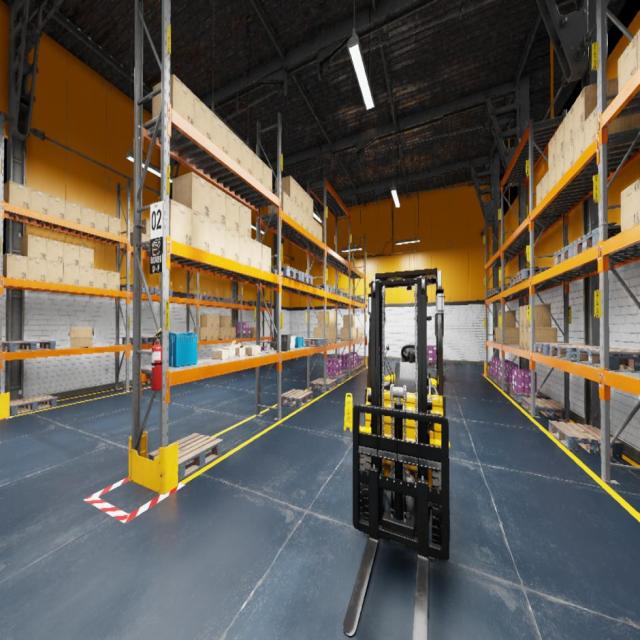box: (584, 101, 640, 150), (573, 77, 618, 136), (152, 74, 194, 125), (150, 200, 192, 247), (172, 172, 210, 219), (617, 33, 638, 93), (621, 178, 640, 232), (194, 95, 211, 142), (3, 180, 30, 209), (192, 210, 210, 252), (20, 234, 46, 260), (523, 304, 551, 328), (528, 328, 557, 350), (210, 184, 225, 226), (3, 253, 27, 279), (210, 218, 225, 258), (275, 176, 297, 203), (212, 112, 226, 154), (268, 191, 290, 217), (226, 194, 240, 232), (227, 126, 240, 166), (69, 327, 94, 347), (225, 226, 239, 261), (30, 187, 48, 214), (28, 258, 46, 282), (46, 239, 64, 263), (49, 194, 66, 219), (63, 242, 80, 266), (564, 104, 573, 149), (574, 124, 584, 164), (65, 199, 81, 224), (46, 261, 64, 283), (241, 140, 252, 175), (240, 203, 251, 238), (564, 138, 574, 174), (240, 233, 251, 265), (63, 264, 79, 286), (500, 327, 520, 344), (556, 119, 564, 160), (81, 205, 95, 228), (80, 246, 94, 268), (548, 132, 556, 170), (262, 162, 272, 192), (252, 239, 262, 269), (253, 151, 262, 184), (80, 266, 94, 287), (498, 310, 515, 327), (95, 210, 108, 232), (94, 268, 107, 289), (108, 215, 121, 236), (556, 150, 564, 183), (262, 244, 271, 273), (314, 327, 329, 344), (318, 310, 333, 327), (548, 162, 556, 192), (230, 340, 245, 356), (107, 271, 119, 290), (131, 232, 146, 247), (212, 350, 229, 360), (200, 314, 213, 327), (542, 171, 548, 199), (290, 198, 297, 222), (193, 328, 207, 340), (536, 180, 542, 206), (343, 314, 355, 327), (220, 347, 235, 357), (341, 328, 353, 340), (219, 315, 231, 327), (142, 218, 150, 236), (308, 196, 314, 218), (297, 182, 302, 208), (308, 214, 314, 235), (303, 189, 308, 213), (245, 346, 258, 355), (297, 204, 302, 227), (303, 209, 308, 231), (248, 346, 260, 354), (313, 219, 318, 238), (251, 328, 261, 337), (519, 306, 523, 328), (524, 328, 528, 350), (219, 327, 226, 339), (519, 328, 523, 348), (638, 29, 640, 68), (213, 314, 219, 327), (213, 327, 219, 340), (207, 327, 213, 340), (318, 223, 322, 242), (329, 327, 333, 344), (230, 327, 236, 338), (358, 327, 363, 338), (226, 327, 231, 338), (498, 327, 501, 343), (333, 311, 336, 327), (333, 327, 336, 343), (493, 327, 496, 342), (496, 328, 498, 342), (352, 327, 354, 340), (354, 327, 356, 339), (146, 235, 150, 240)
forklift: (360, 268, 450, 544)
pallets: (149, 433, 223, 481), (548, 420, 622, 458), (573, 225, 621, 256), (576, 347, 640, 370), (550, 344, 623, 362), (10, 395, 57, 415), (522, 397, 564, 419), (534, 342, 590, 356), (1, 341, 56, 352), (281, 390, 313, 407), (516, 267, 552, 282), (510, 388, 548, 402), (554, 242, 573, 266), (272, 266, 301, 280), (311, 378, 336, 391), (120, 285, 154, 294), (123, 336, 155, 344), (310, 284, 335, 294), (510, 275, 530, 287), (304, 338, 328, 347), (326, 373, 347, 383), (298, 272, 312, 286), (497, 378, 512, 390), (490, 287, 507, 296), (154, 288, 172, 296), (190, 295, 212, 301), (203, 296, 225, 302), (427, 361, 445, 368), (342, 368, 357, 376), (348, 294, 361, 302), (222, 298, 238, 304), (245, 301, 263, 306), (235, 333, 252, 338), (256, 302, 270, 307), (354, 365, 362, 373), (492, 374, 498, 384), (486, 290, 493, 298), (356, 297, 364, 303), (488, 371, 493, 380), (334, 288, 340, 295), (341, 291, 347, 298), (358, 364, 366, 369), (151, 337, 159, 342), (506, 282, 511, 289), (146, 381, 151, 384)
